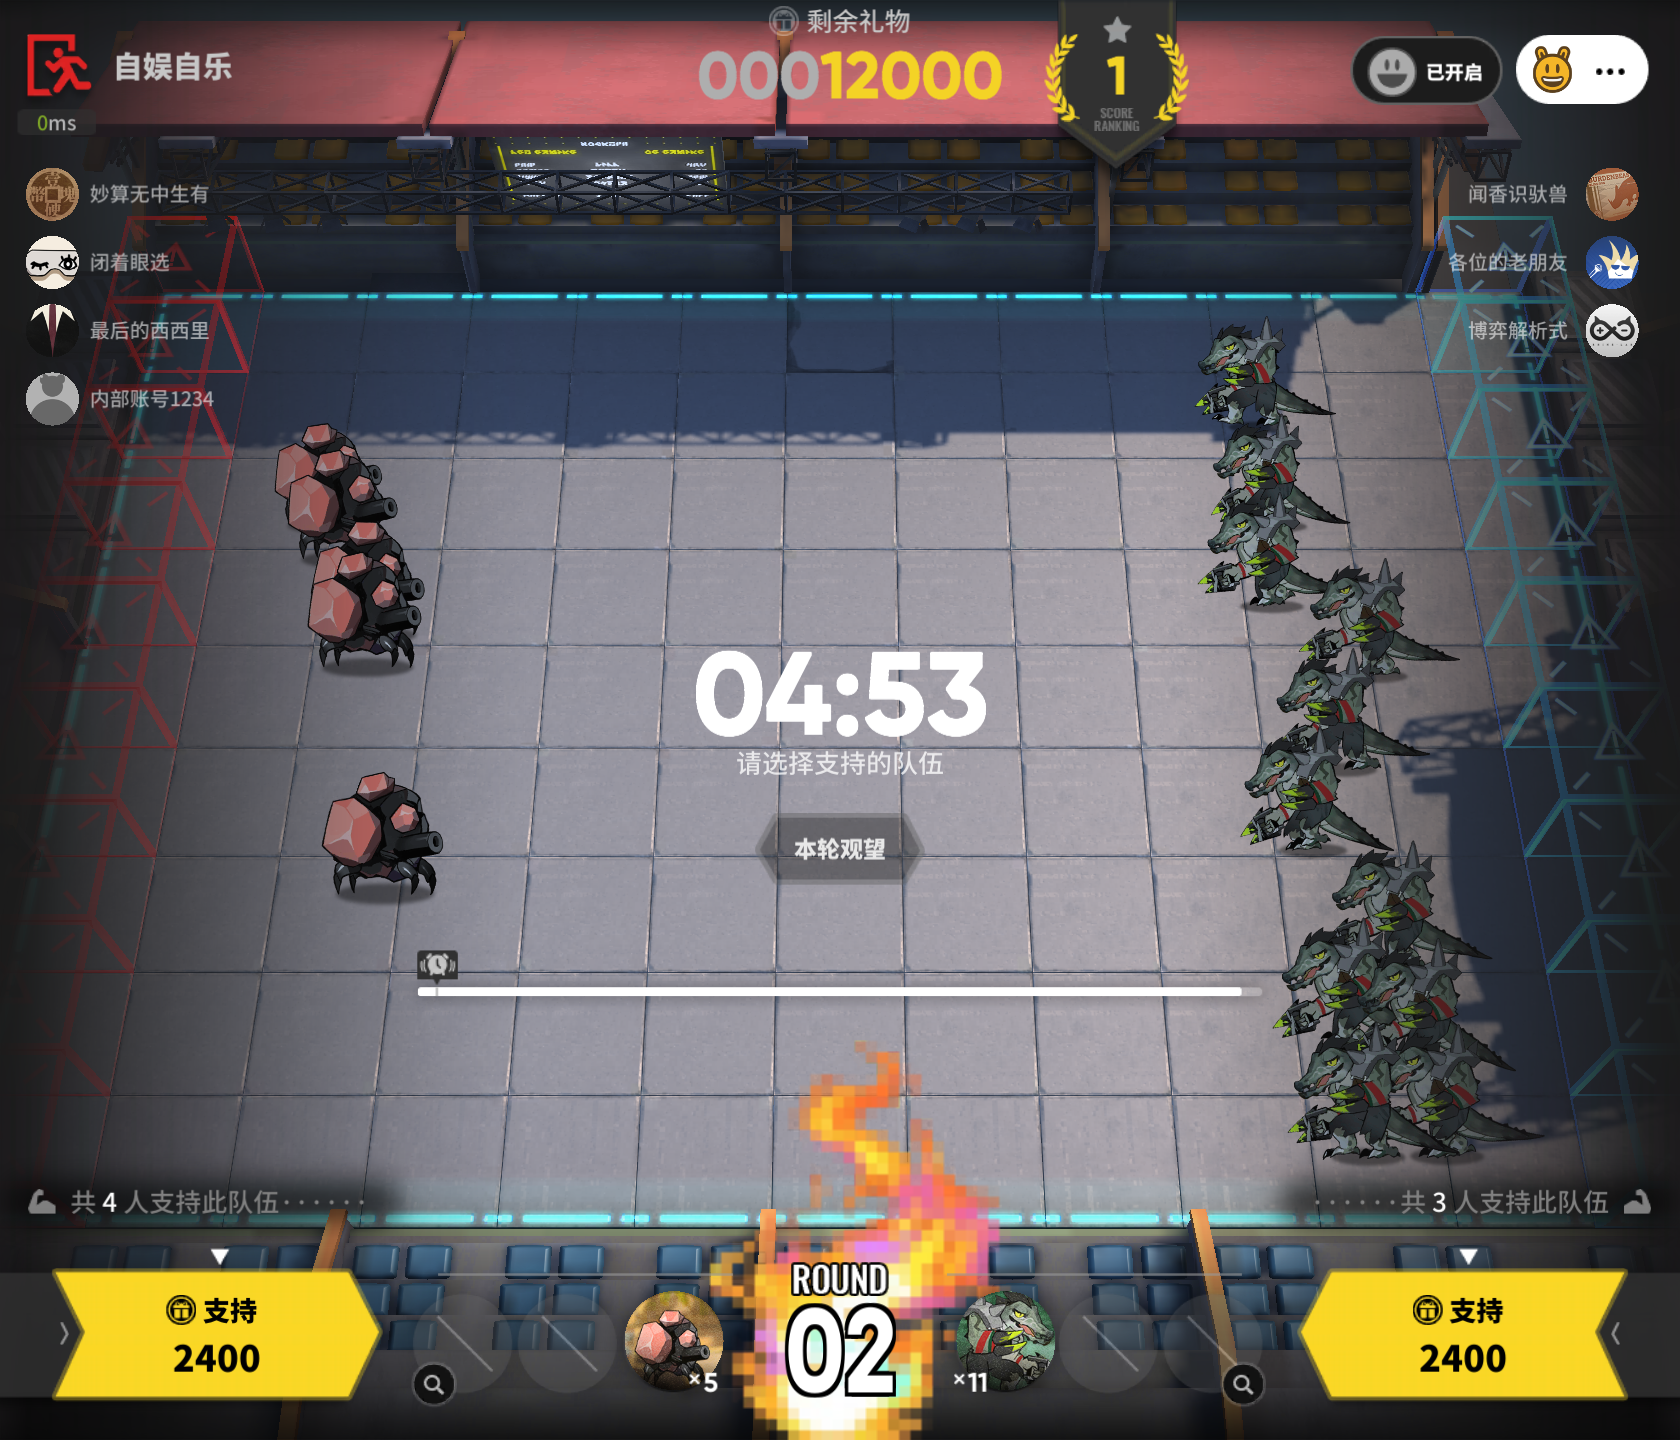大喷蛛: (321, 771, 443, 896), (307, 556, 424, 669), (277, 419, 389, 523), (300, 466, 406, 554), (330, 521, 427, 609), (630, 1300, 719, 1384)
窃笑鳄鱼: (1286, 1030, 1446, 1174), (1269, 654, 1456, 769), (1394, 1029, 1540, 1171), (1339, 847, 1491, 969), (1303, 557, 1460, 674), (1240, 734, 1393, 851), (1284, 929, 1431, 1050), (1366, 960, 1516, 1073), (1209, 414, 1349, 527), (1194, 316, 1336, 426), (1197, 510, 1329, 607), (961, 1294, 1061, 1393)
